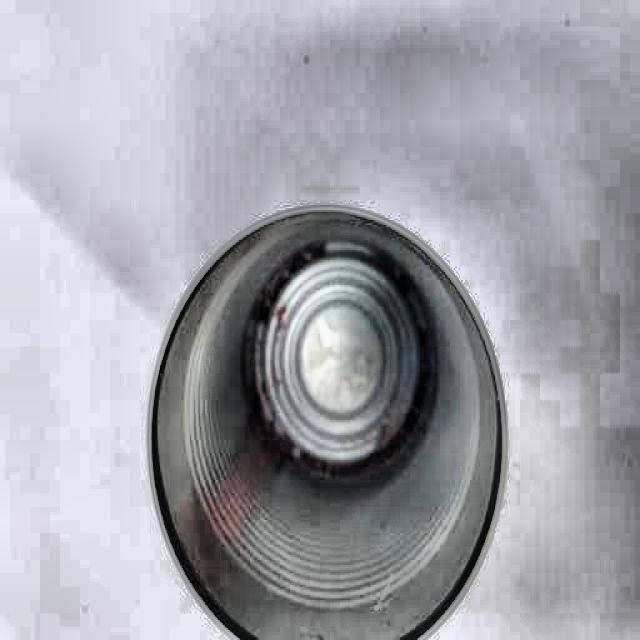metal: (150, 203, 511, 639)
